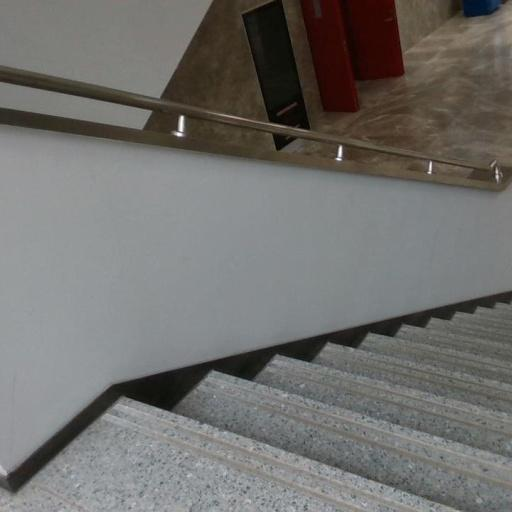stairs: (86, 304, 511, 511)
